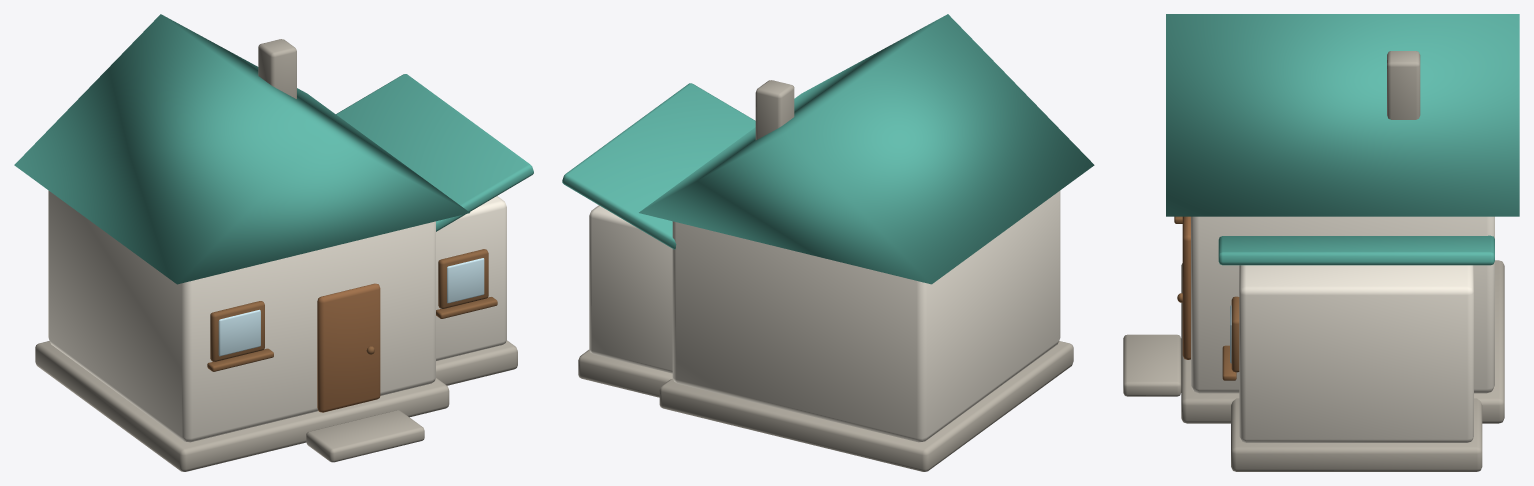
Rendered from house-grown-1.glb.
3 renders of one model, left to right at view 1: azimuth 30°, elevation 25°; view 2: azimuth 150°, elevation 25°; view 3: azimuth 270°, elevation 25°, orthographic. The views are drawn at different scales.
Visible parts, largest first — view 1: house; view 2: house; view 3: house.
Part boxes in pixels (x1,y1,x2,y2): house: [14, 14, 533, 471]; house: [562, 14, 1094, 471]; house: [1123, 14, 1519, 471].
Size of the model in its own units: 3.47 by 2.72 by 2.87.
